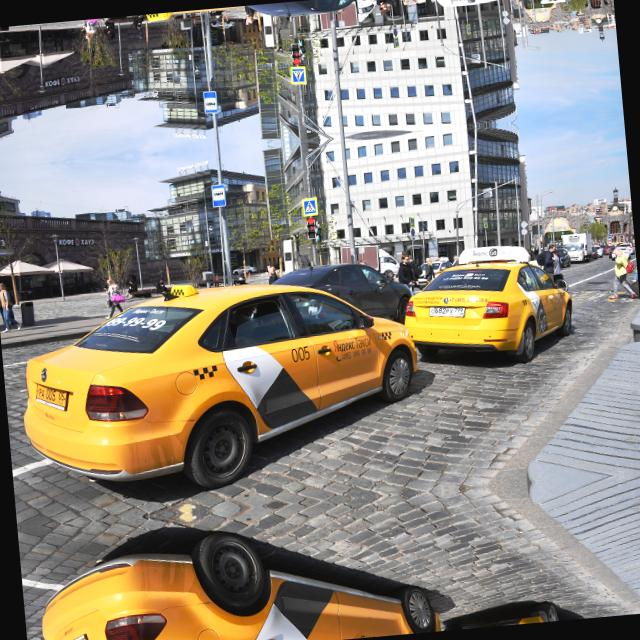citizen: (424, 300, 470, 324)
taxi: (28, 376, 76, 416), (49, 630, 97, 640)
